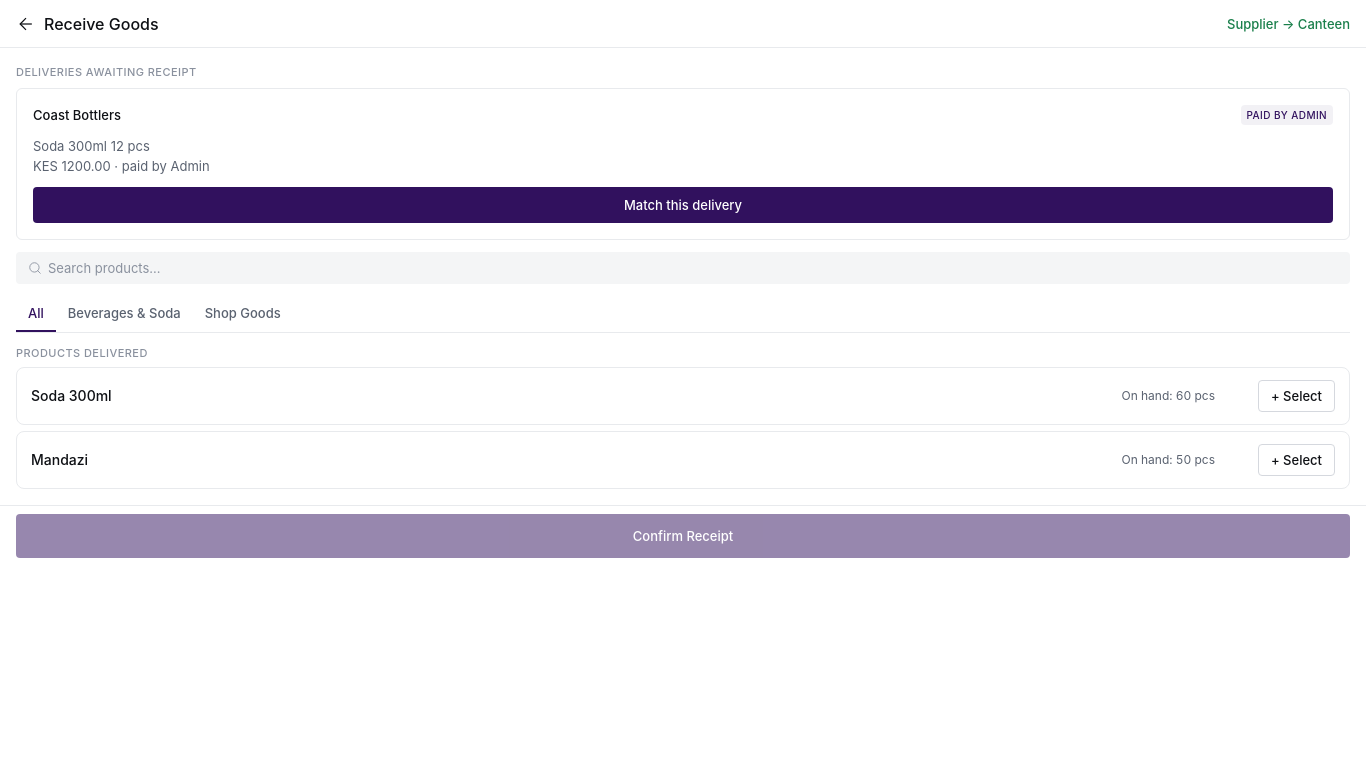
Test case: Canteen — Receive Goods flow (ADR-69) › impact copy names the Canteen, and no money / cost / margin appears
The width and height of the screenshot is (1366, 768).
Click the button "+ Select" next to "On hand: 50 pcs" at (1296, 460), box [1258,444,1335,476]
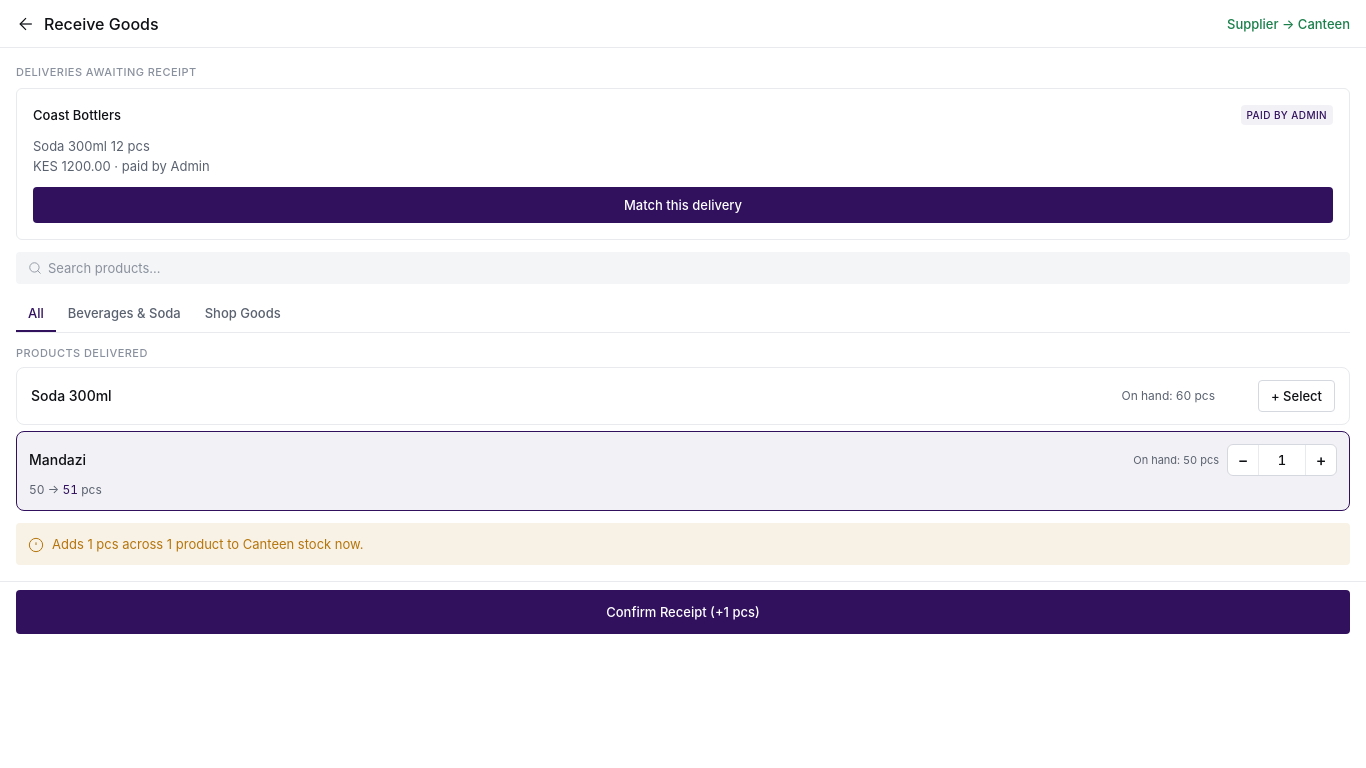
Replace the text in the number field with "8" at (1282, 460), box [1274,452,1290,468]
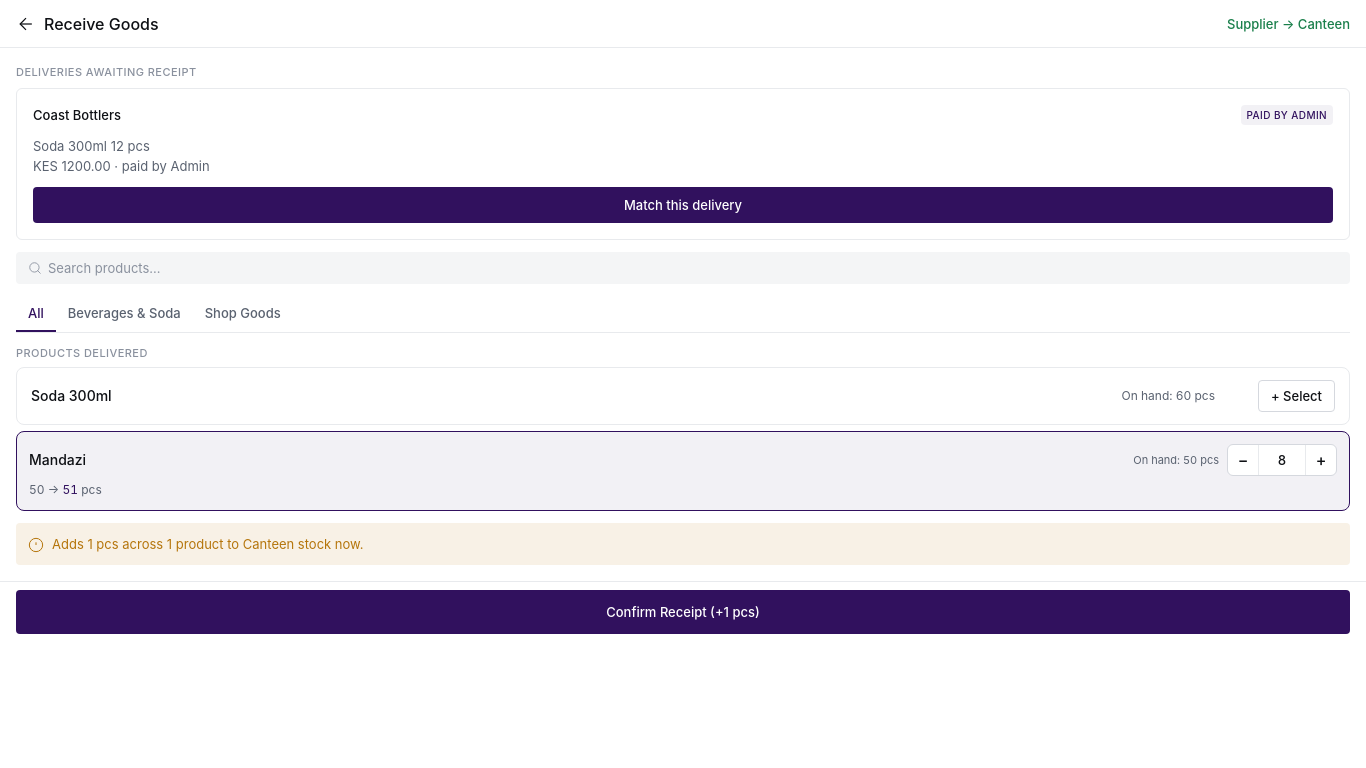
Press Tab
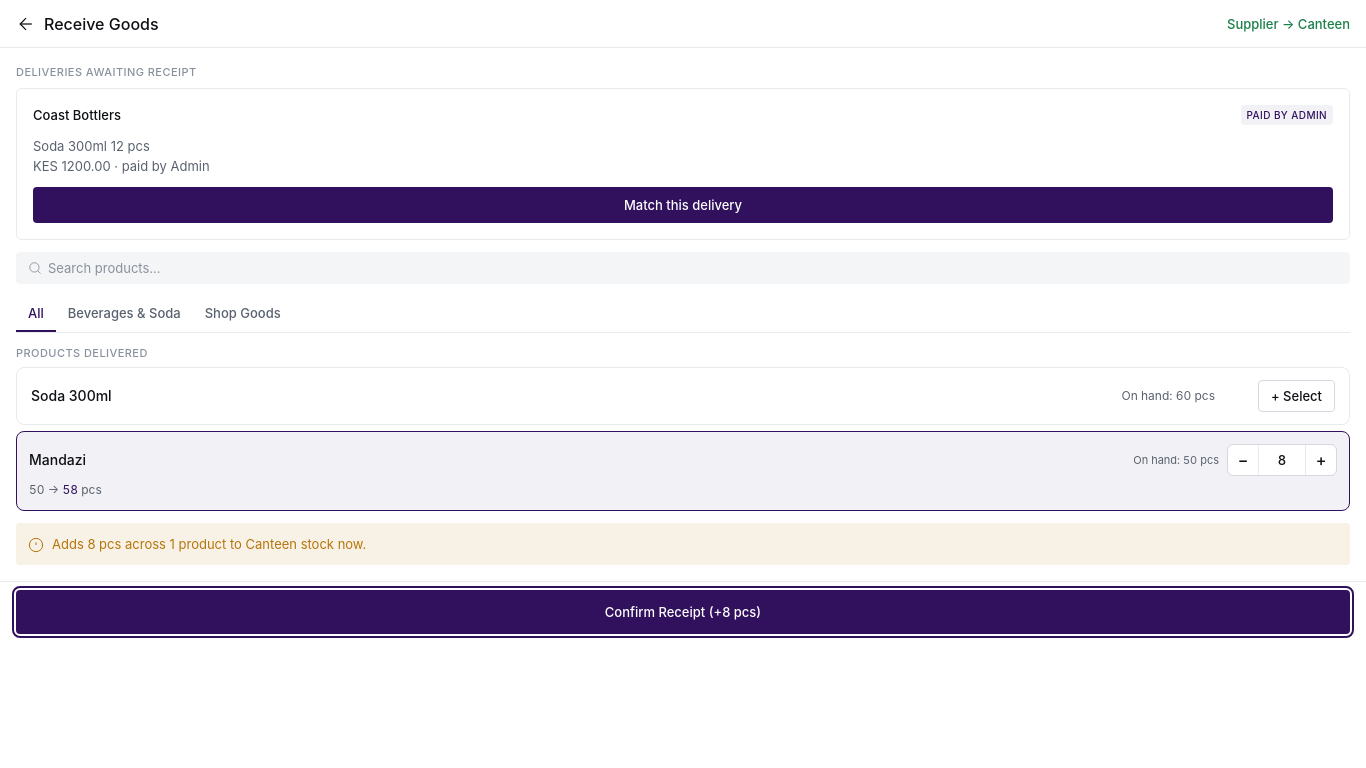
Now the text "Adds 8 pcs across 1 product to Canteen stock now." is shown, box [52,535,366,553]
